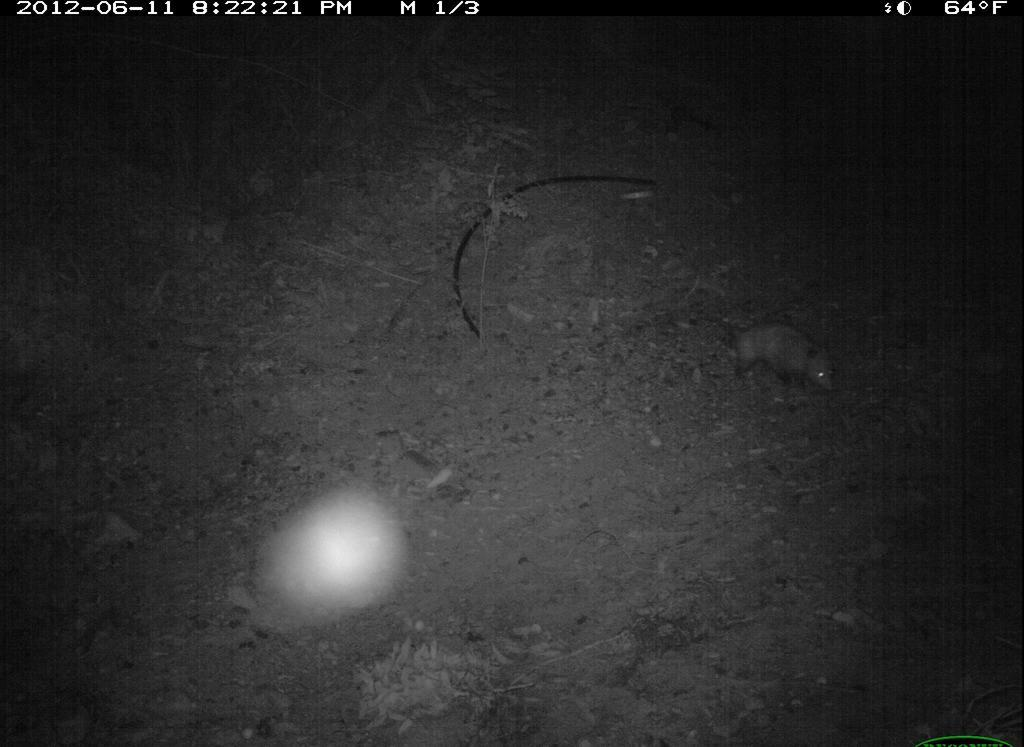opossum: (711, 296, 857, 415)
